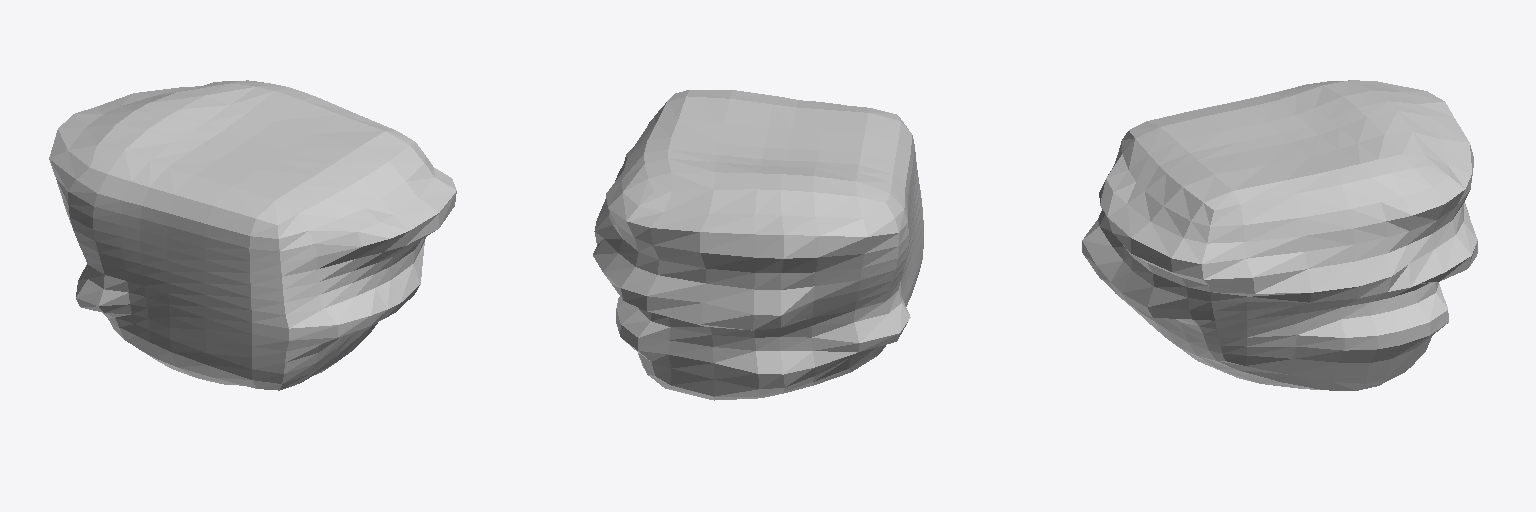
File: PM3D_rock020_001.OBJ
3 renders of one model, left to right at view 1: azimuth 30°, elevation 25°; view 2: azimuth 150°, elevation 25°; view 3: azimuth 270°, elevation 25°, orthographic.
Visible parts, largest first — view 1: Group39888; view 2: Group39888; view 3: Group39888.
Boxes of the visible parts, <box> form: Group39888: <box>49,80,456,390</box>; Group39888: <box>593,90,923,400</box>; Group39888: <box>1082,80,1477,390</box>.
Size of the model in its own units: 2346 by 1727 by 2521.